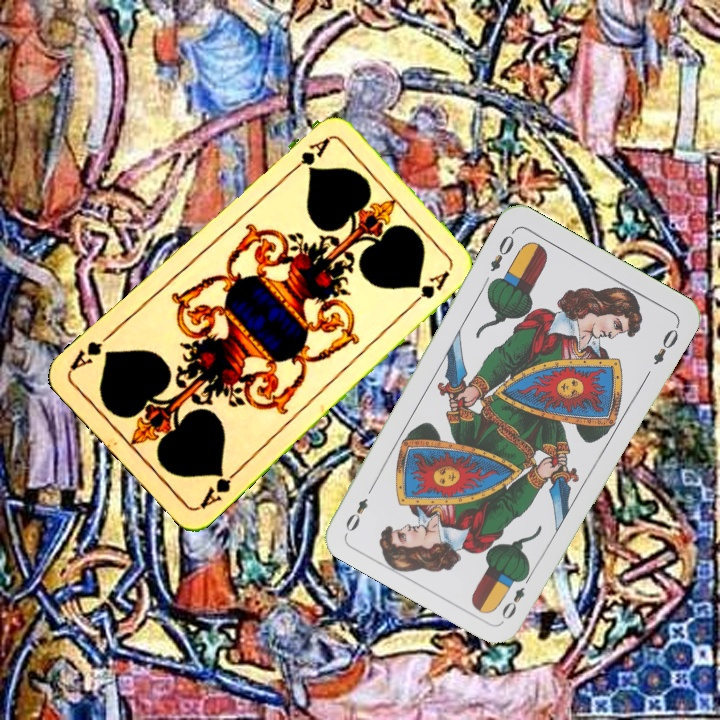EO: (497, 569, 535, 623), (486, 226, 517, 275)
GA: (195, 465, 243, 513), (283, 134, 332, 178)
